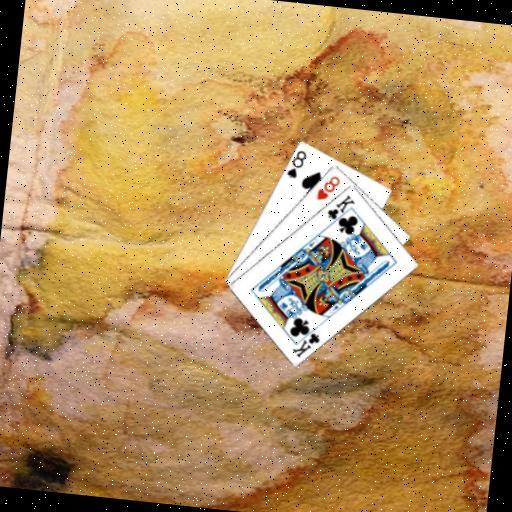8H: (314, 171, 342, 204)
8S: (283, 145, 309, 181)
KC: (323, 189, 357, 229), (289, 322, 323, 361)
